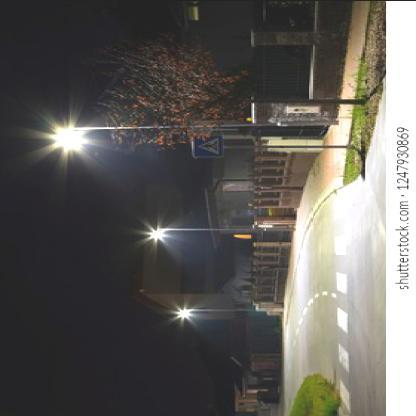on: (34, 102, 127, 220), (111, 180, 200, 294), (161, 277, 228, 363)
